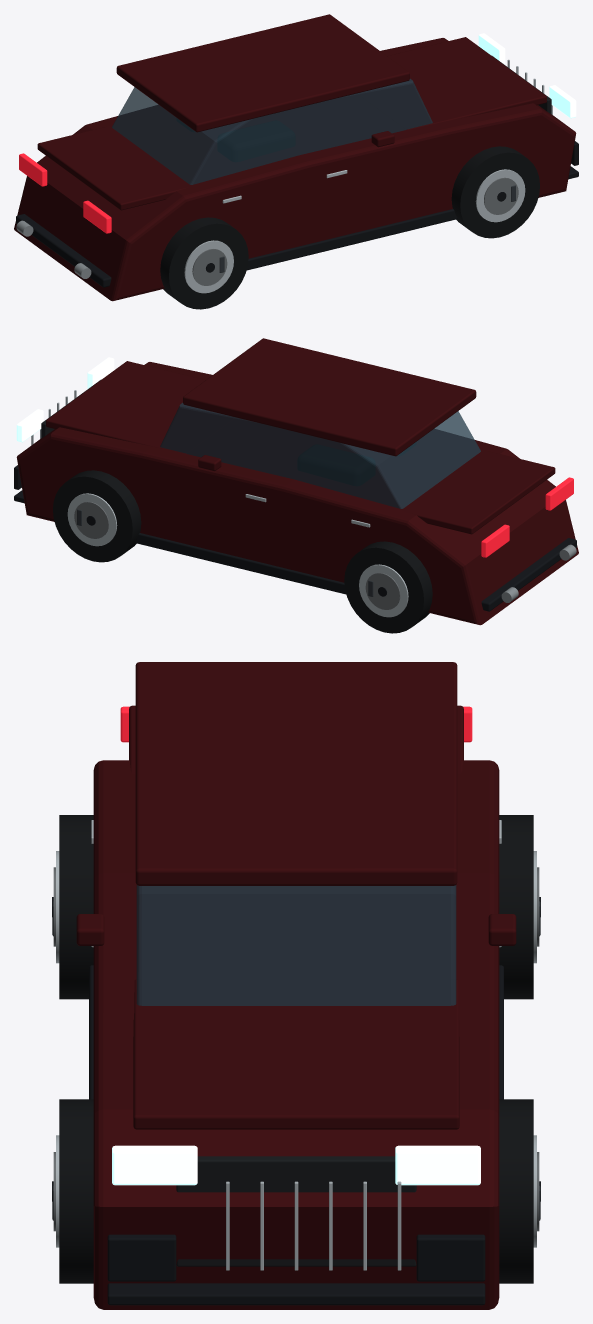
File: ford_explorer.glb
The picture shows the model from 3 angles, top to bottom: view 1: azimuth 30°, elevation 25°; view 2: azimuth 150°, elevation 25°; view 3: azimuth 270°, elevation 25°; orthographic projection. The views are drawn at different scales.
Visible parts, largest first — view 1: sculpted_body, roof, glasshouse, hood_center, rear_deck, rear_right_wheel_tire, front_right_wheel_tire, side_skirt_1, seat_1, rear_diffuser, rear_right_wheel_rim, front_right_wheel_rim (+6 smaller); view 2: sculpted_body, roof, glasshouse, hood_center, rear_deck, rear_left_wheel_tire, front_left_wheel_tire, side_skirt_-1, seat_-1, rear_diffuser, rear_left_wheel_rim, front_left_wheel_rim (+6 smaller); view 3: sculpted_body, roof, hood_center, glasshouse, front_grille, front_splitter, front_left_wheel_tire, front_right_wheel_tire, rear_left_wheel_tire, rear_right_wheel_tire, headlight_right, headlight_left (+5 smaller).
Boxes of the visible parts, box(x1,y1,x2,y2) form: sculpted_body: box(14, 38, 576, 301); roof: box(116, 14, 409, 132); glasshouse: box(112, 78, 432, 184); hood_center: box(358, 37, 546, 129); rear_deck: box(37, 126, 190, 210); rear_right_wheel_tire: box(160, 217, 248, 309); front_right_wheel_tire: box(451, 146, 539, 238); side_skirt_1: box(246, 209, 457, 270); seat_1: box(218, 121, 294, 161); rear_diffuser: box(16, 214, 111, 287); rear_right_wheel_rim: box(184, 240, 233, 293); front_right_wheel_rim: box(475, 169, 525, 222); sculpted_body: box(16, 362, 578, 625); roof: box(183, 338, 476, 456); glasshouse: box(160, 402, 480, 508); hood_center: box(46, 361, 234, 453); rear_deck: box(402, 450, 555, 534); rear_left_wheel_tire: box(344, 541, 432, 633); front_left_wheel_tire: box(53, 470, 141, 562); side_skirt_-1: box(135, 533, 346, 594); seat_-1: box(298, 445, 374, 485); rear_diffuser: box(481, 538, 576, 611); rear_left_wheel_rim: box(359, 564, 408, 617); front_left_wheel_rim: box(67, 493, 117, 546); sculpted_body: box(93, 760, 499, 1309); roof: box(135, 662, 457, 885); hood_center: box(133, 979, 459, 1129); glasshouse: box(136, 885, 456, 1005); front_grille: box(176, 1156, 416, 1266); front_splitter: box(107, 1283, 485, 1305); front_left_wheel_tire: box(499, 1099, 533, 1283); front_right_wheel_tire: box(59, 1099, 93, 1283); rear_left_wheel_tire: box(499, 815, 533, 999); rear_right_wheel_tire: box(59, 815, 93, 999); headlight_right: box(112, 1145, 197, 1185); headlight_left: box(395, 1145, 480, 1185).
Size of the model in its own units: 5.24 by 1.73 by 2.28.
